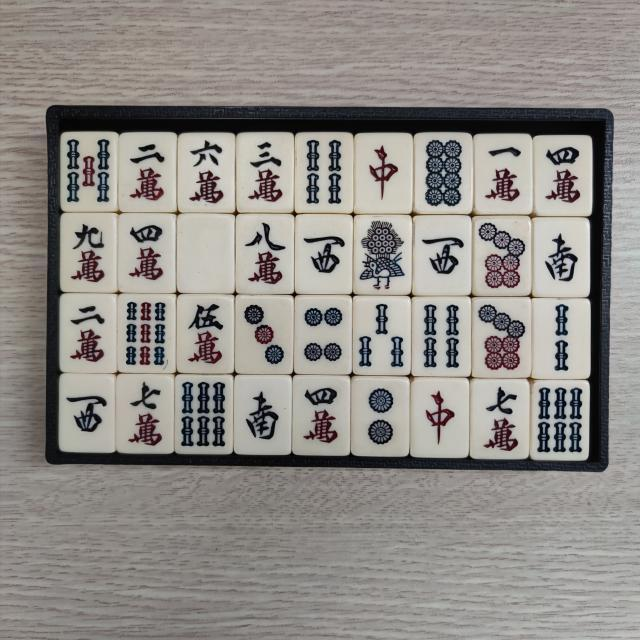hdr: (362, 139, 408, 209), (418, 384, 464, 453)
hdw: (183, 220, 230, 288)
hws: (240, 380, 288, 448), (540, 224, 584, 292)
hww: (419, 220, 468, 290), (300, 218, 348, 288), (62, 382, 110, 448)
sb1: (357, 218, 408, 292)
sb2: (538, 304, 586, 376)
sb3: (358, 304, 406, 374)
sb4: (416, 302, 464, 374), (302, 136, 350, 207)
sb5: (66, 136, 114, 207)
sb6: (535, 386, 585, 458), (180, 381, 230, 452)
sb9: (122, 298, 170, 368)
sc1: (479, 140, 526, 208)
sc2: (124, 136, 170, 206), (64, 302, 110, 370)
sc3: (243, 138, 290, 208)
sc4: (300, 379, 348, 447), (540, 141, 588, 209), (124, 218, 169, 286)
sc5: (183, 300, 230, 370)
sc6: (184, 138, 230, 209)
sc7: (476, 382, 523, 454), (122, 378, 168, 448)
sc8: (238, 222, 288, 290)
sc9: (67, 218, 112, 288)
sd2: (360, 382, 404, 451)
sd3: (242, 301, 290, 371)
sd4: (299, 300, 347, 369)
sd7: (477, 300, 528, 372), (477, 220, 527, 290)
sd8: (421, 139, 468, 210)
